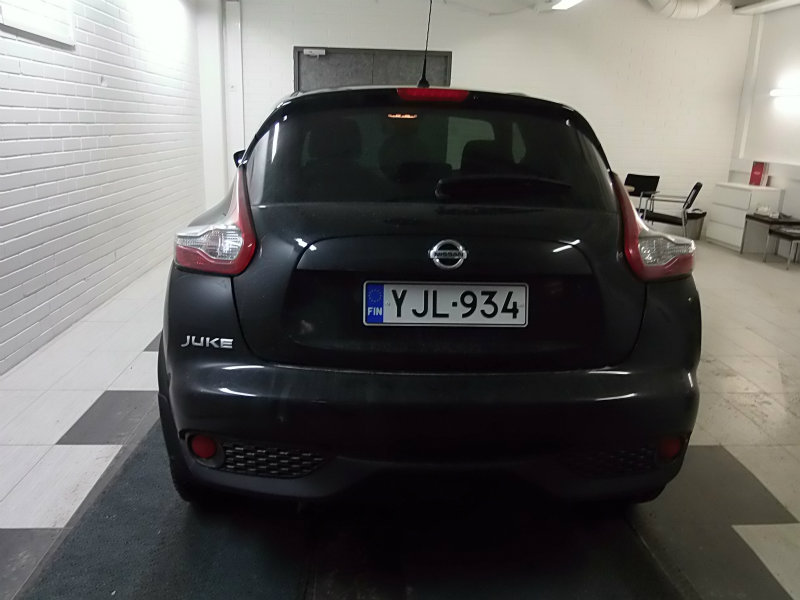license: (356, 282, 523, 334)
